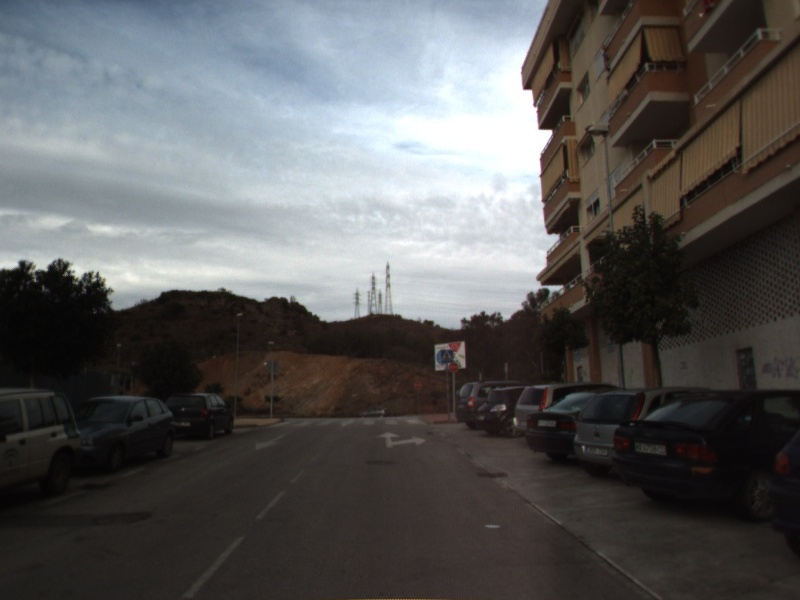STRAIGHT_RIGHT: (375, 430, 429, 450)
